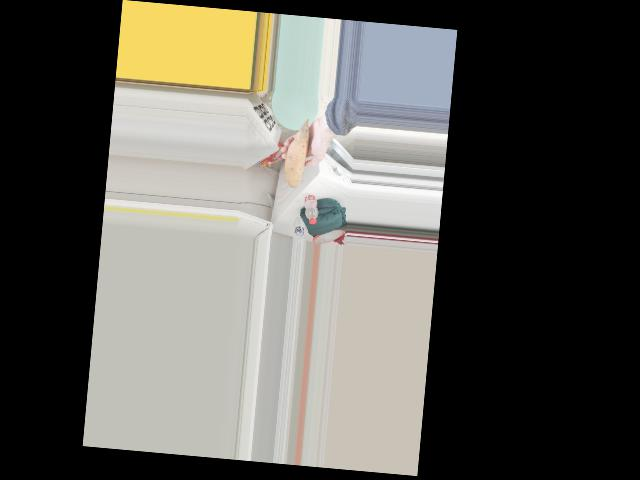sweet_potato: (281, 127, 309, 187)
